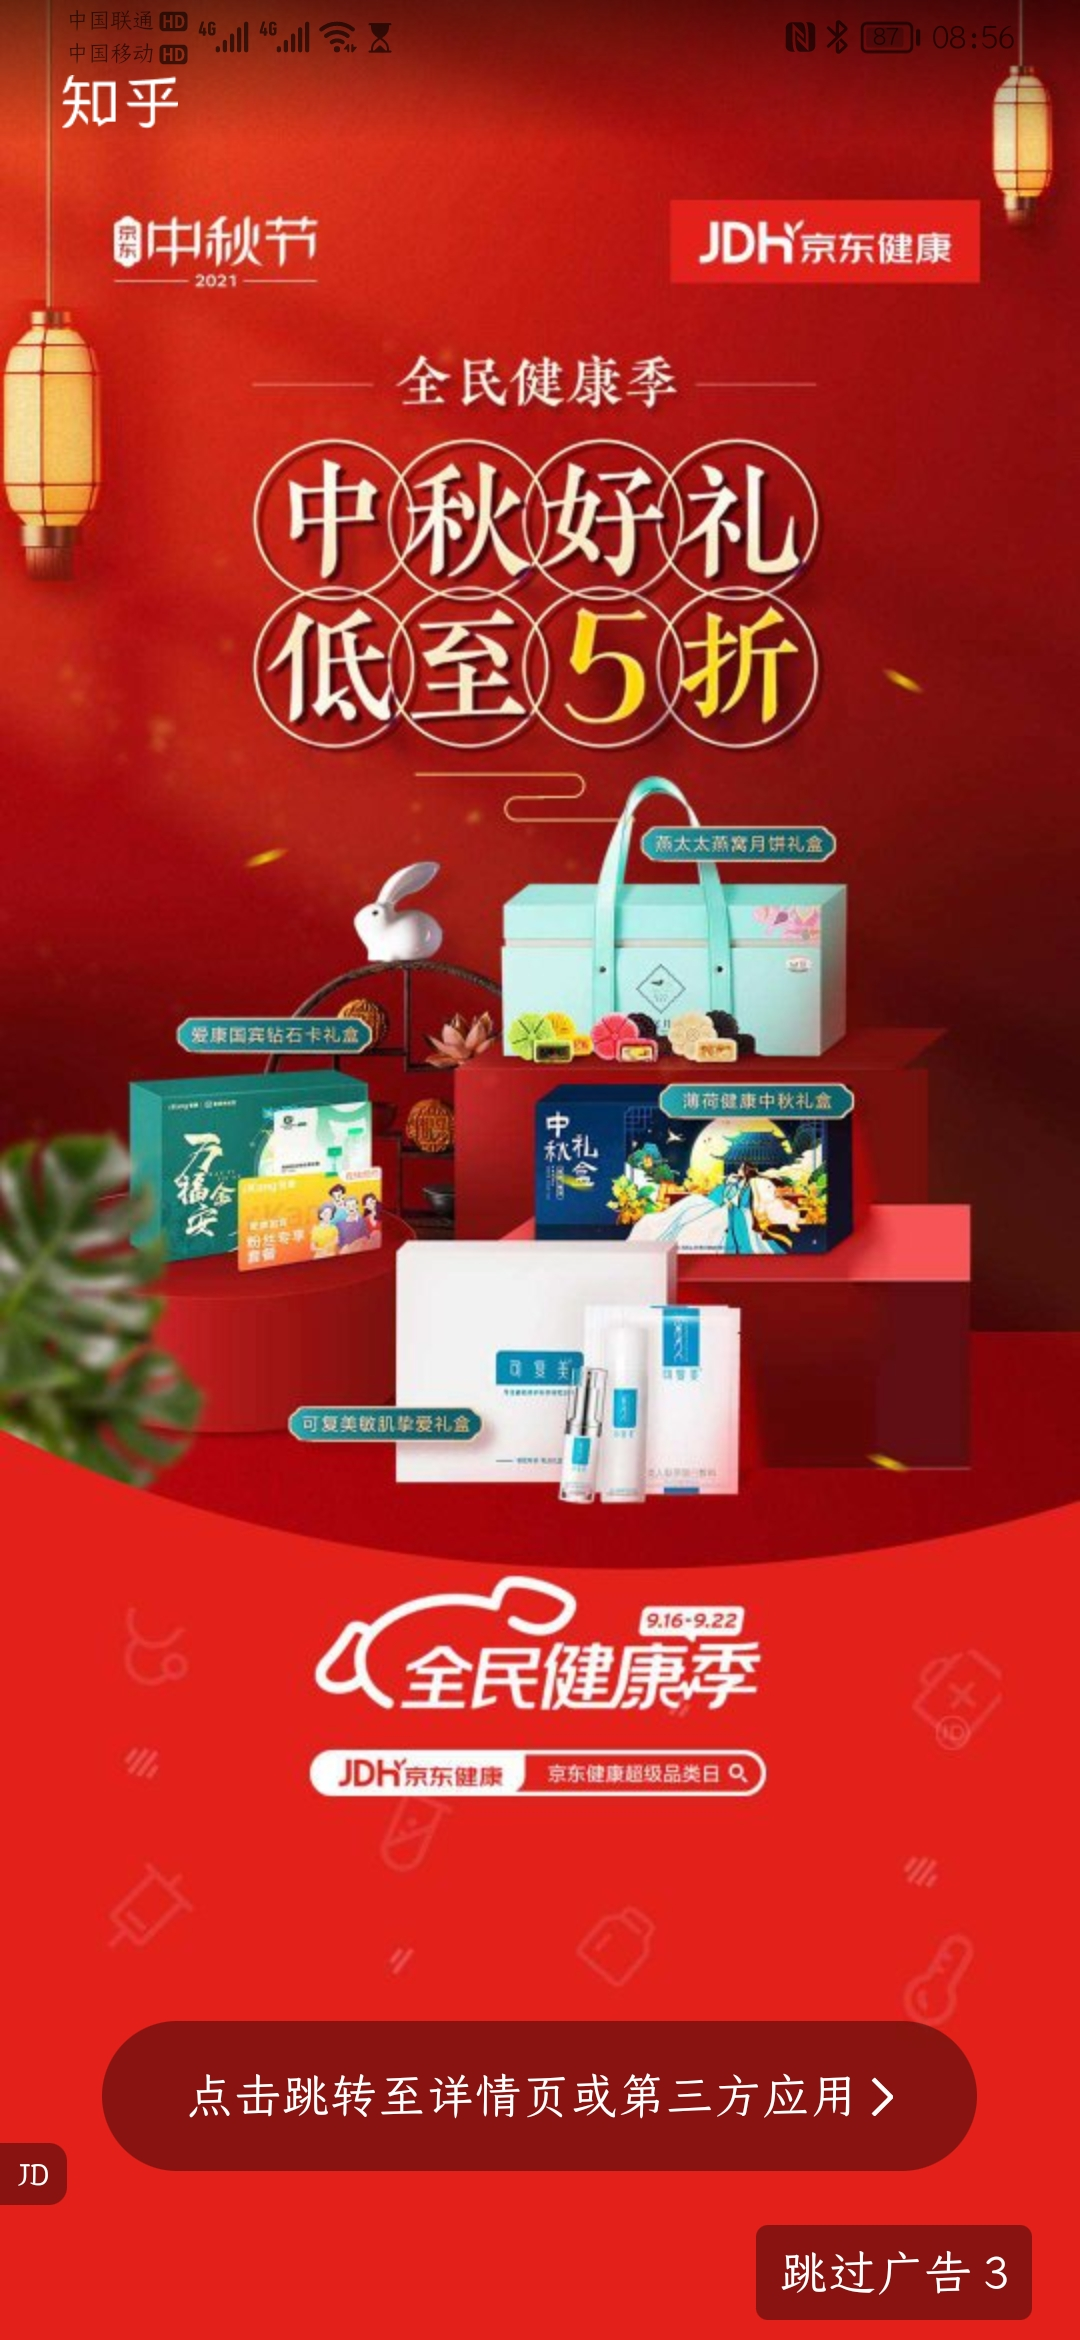skip: (759, 2233, 1032, 2328)
